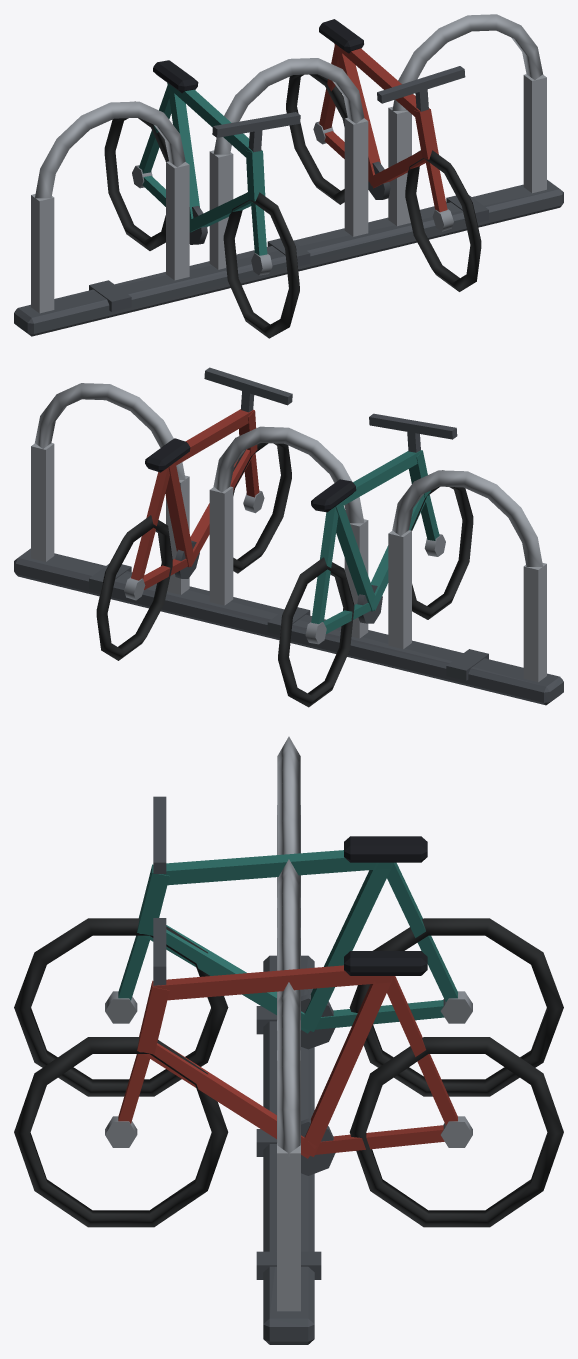
File: bike_rack_01.glb
3 renders of one model, top to bottom at view 1: azimuth 30°, elevation 25°; view 2: azimuth 150°, elevation 25°; view 3: azimuth 270°, elevation 25°, orthographic. The views are drawn at different scales.
Parts seen in each view (by area): view 1: bike_rack_01; view 2: bike_rack_01; view 3: bike_rack_01.
Part boxes in pixels (bbox=[...]): bike_rack_01: bbox=[14, 14, 563, 338]; bike_rack_01: bbox=[14, 367, 563, 707]; bike_rack_01: bbox=[14, 736, 563, 1344].
Size of the model in its own units: 2.7 by 1.01 by 1.7.
